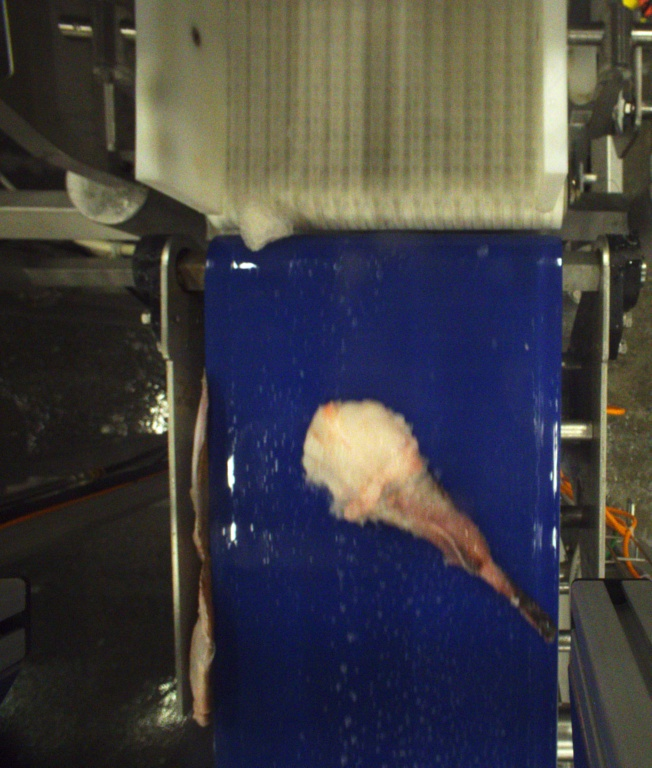ANF: (300, 394, 558, 640)
